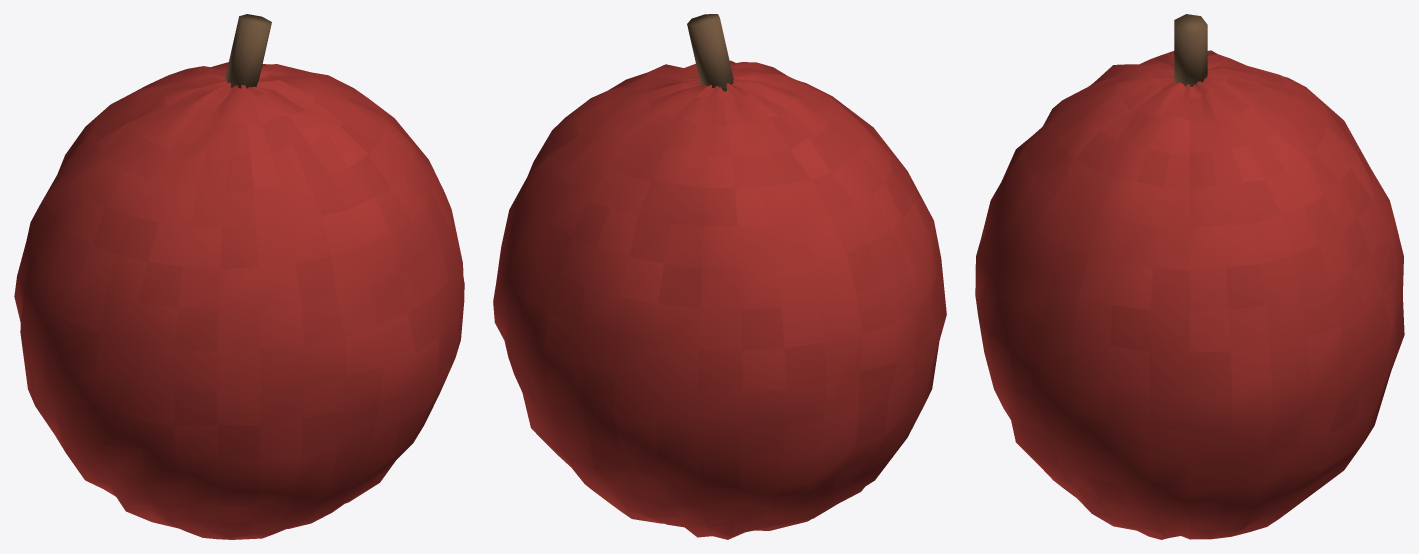
The model's file is Apple.glb.
3 renders of one model, left to right at view 1: azimuth 30°, elevation 25°; view 2: azimuth 150°, elevation 25°; view 3: azimuth 270°, elevation 25°, orthographic.
Parts seen in each view (by area): view 1: Apple; view 2: Apple; view 3: Apple.
Part boxes in pixels (x1,y1,x2,y2): Apple: (14, 14, 464, 539); Apple: (493, 14, 946, 539); Apple: (975, 14, 1404, 539).
Size of what is drawn, in the model's own units: 0.0741 by 0.0896 by 0.0684.
